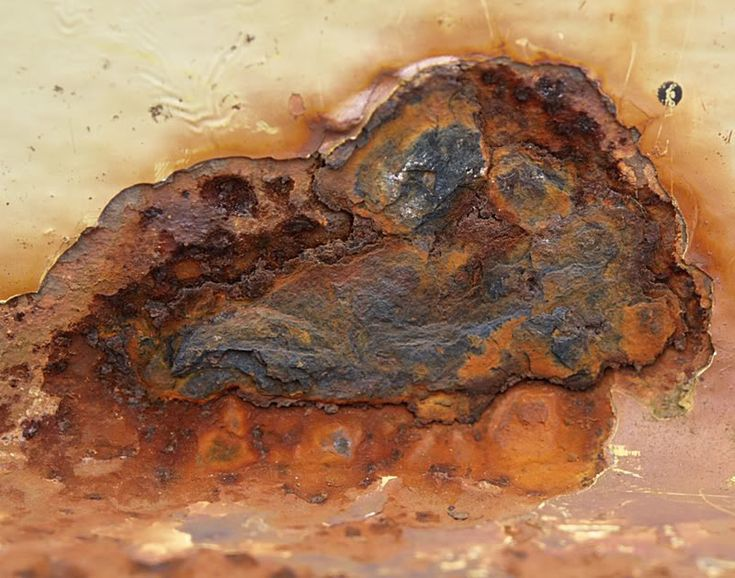rust: (56, 91, 623, 472)
